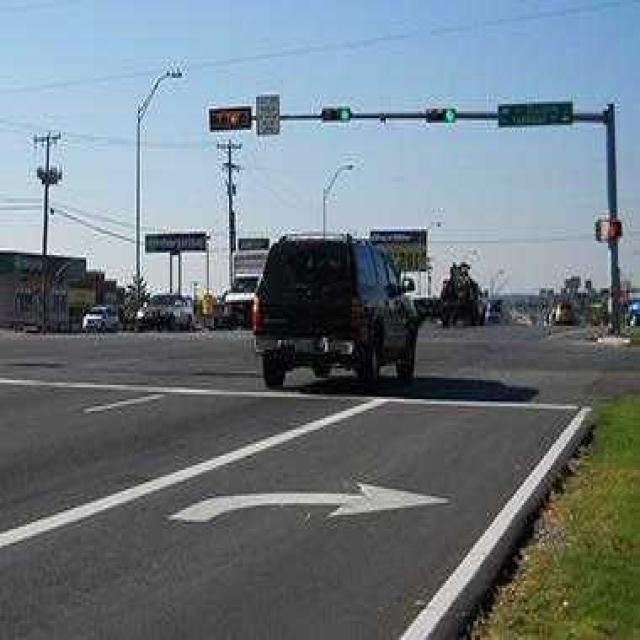Traffic Light -Green-: (422, 104, 458, 125), (318, 104, 353, 125)
